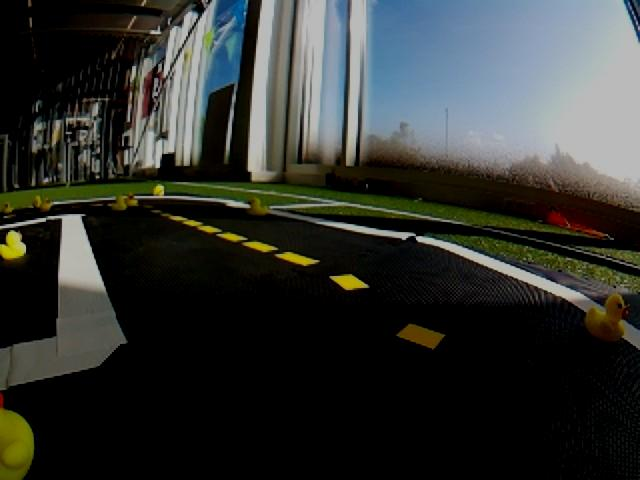Duckies: (0, 390, 33, 480), (584, 294, 630, 344), (0, 230, 26, 261), (246, 198, 267, 214), (111, 193, 127, 211), (38, 199, 54, 211), (126, 194, 139, 206), (152, 185, 164, 196), (3, 202, 14, 213), (32, 196, 43, 205)
